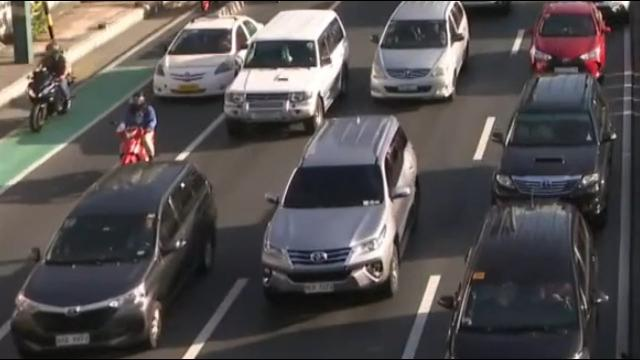car: (12, 161, 219, 360), (261, 116, 419, 305), (437, 203, 608, 360), (492, 75, 618, 221), (225, 10, 349, 137), (368, 0, 470, 105), (153, 16, 267, 103), (525, 1, 610, 87)
motorcycle: (26, 40, 77, 132), (109, 92, 157, 177)
